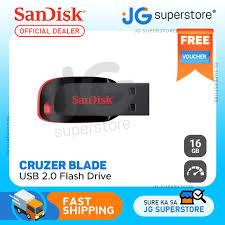Flash-drive: (29, 63, 155, 124)
